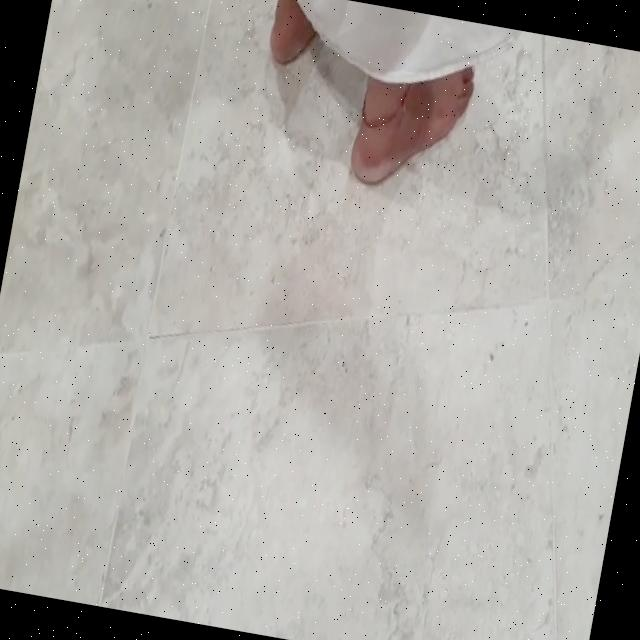no-boots: (329, 32, 488, 214)
